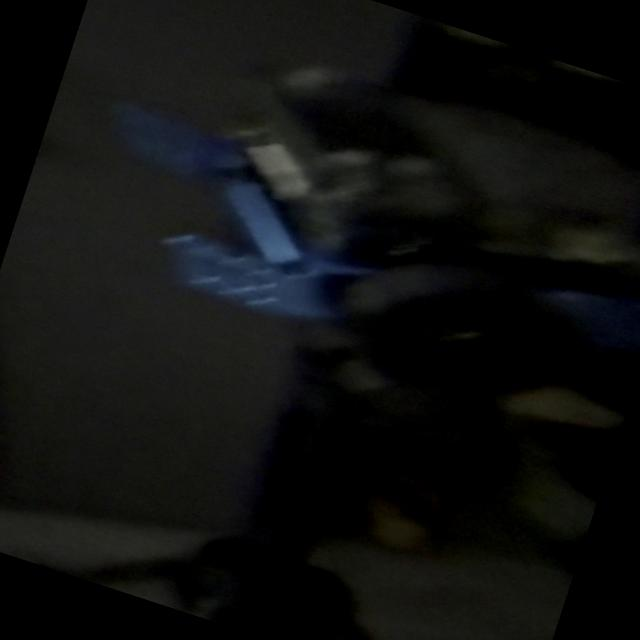mbot-detection: (26, 0, 640, 462)
